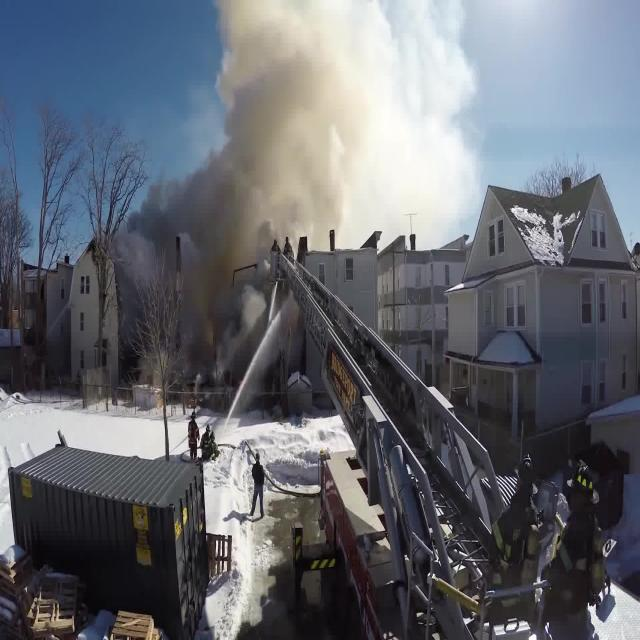Smoke: (109, 0, 478, 362)
